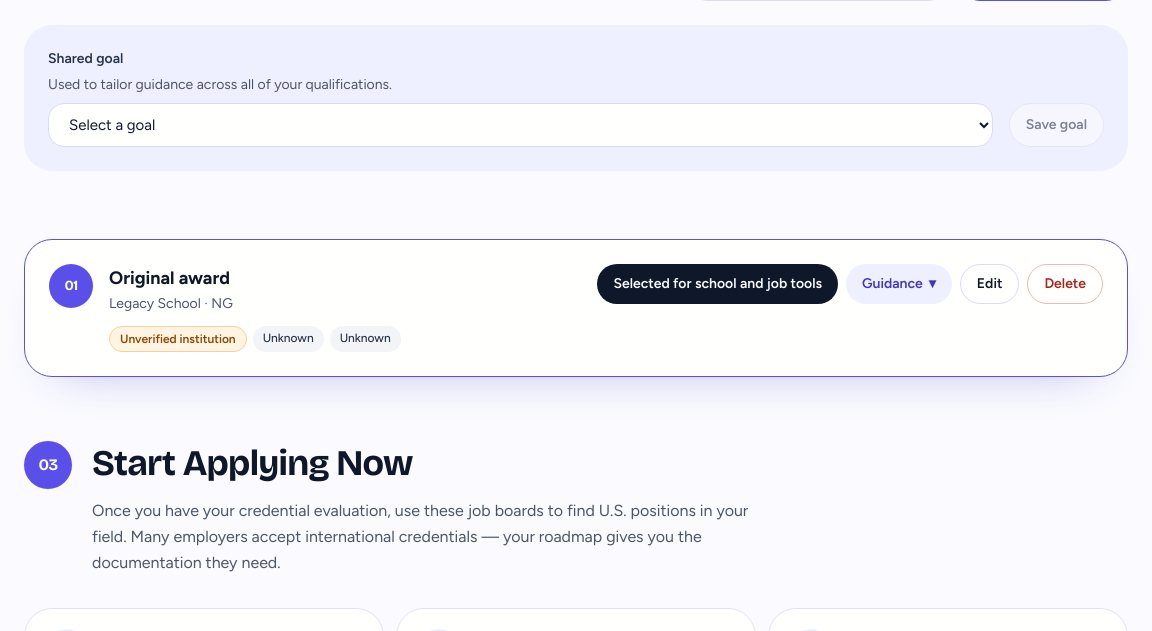
Test: Country picker and backward-compatible award editing › keeps a saved legacy country value NG intact
(page scrolled)
Click the button with test id "button-edit-legacy-qualification".
click(990, 284)  # box [960,264,1019,304]
(page scrolled)
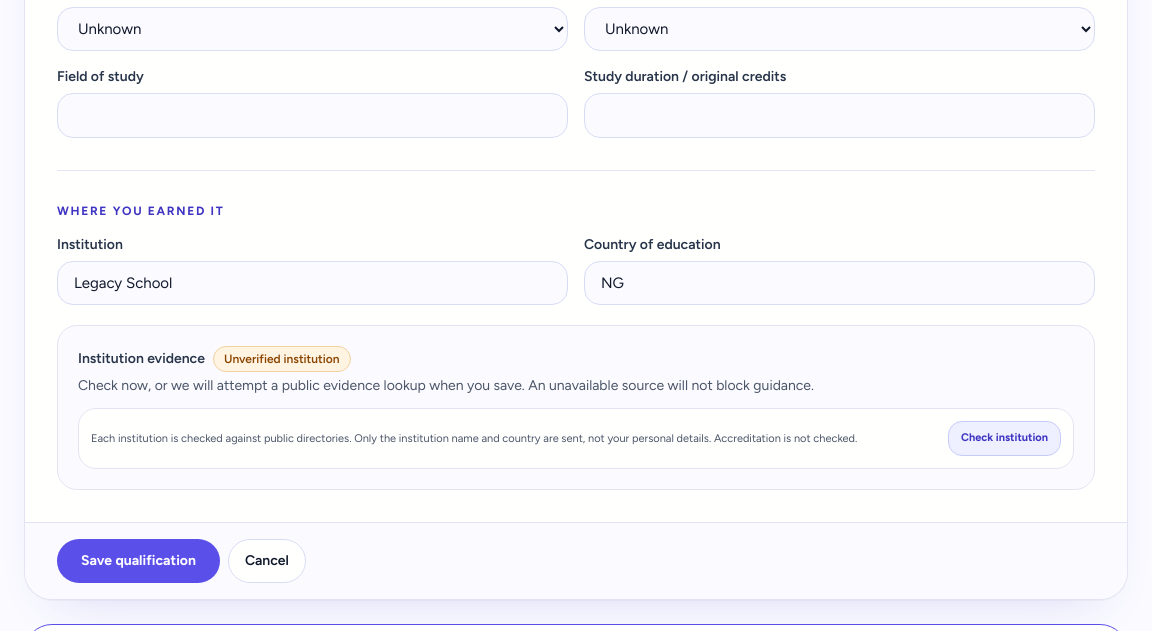
Result: the field with test id "input-country" holds "NG" at [584,261,1095,305]
